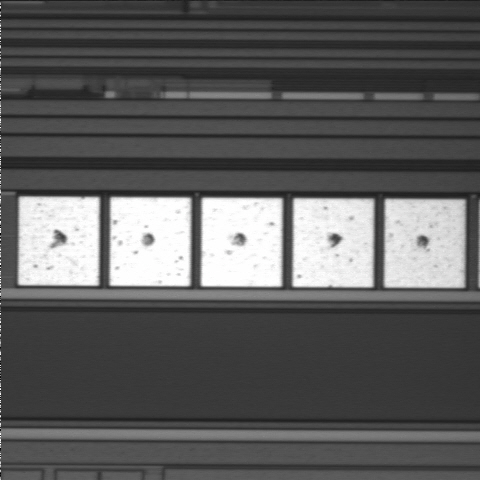pad: (18, 197, 99, 286), (110, 197, 191, 286), (201, 198, 282, 287), (293, 198, 374, 287), (384, 199, 465, 288)
